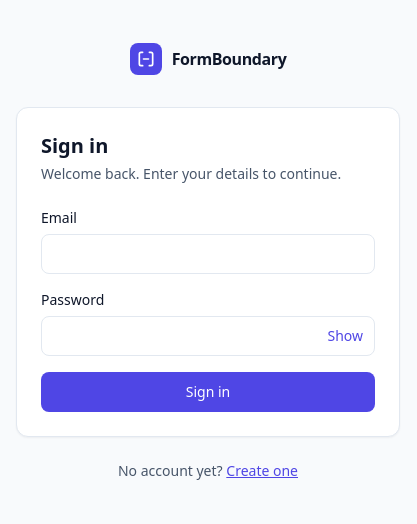
Scenario: login page › shows a server error in the alert region
The image size is (417, 524).
Type "raja@example.com" into the field labelled "Email" at point(208, 254), box [41,234,375,274]
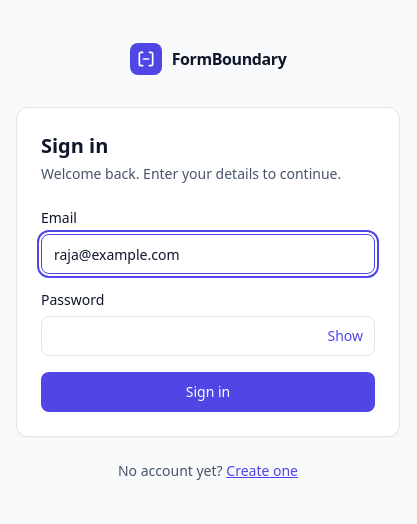
Type "wrong-password-123" into the password field labelled "Password" at point(208, 336), box [41,316,375,356]
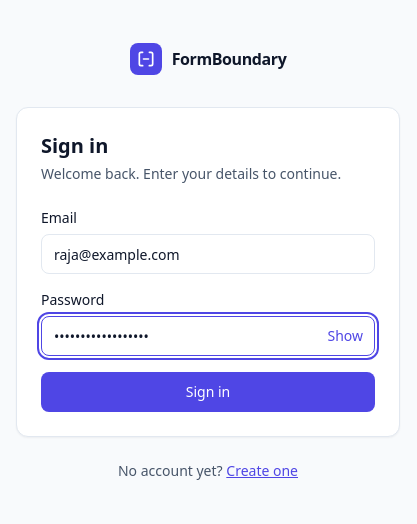
Click the button "Sign in" at point(208, 392), box [41,372,375,412]
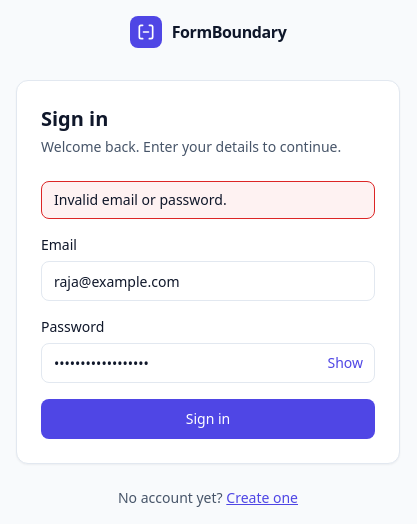
Now the text "Invalid email or password." is shown, box [41,181,375,219]
Now the message reads "Invalid email or password.", box [54,190,227,209]
